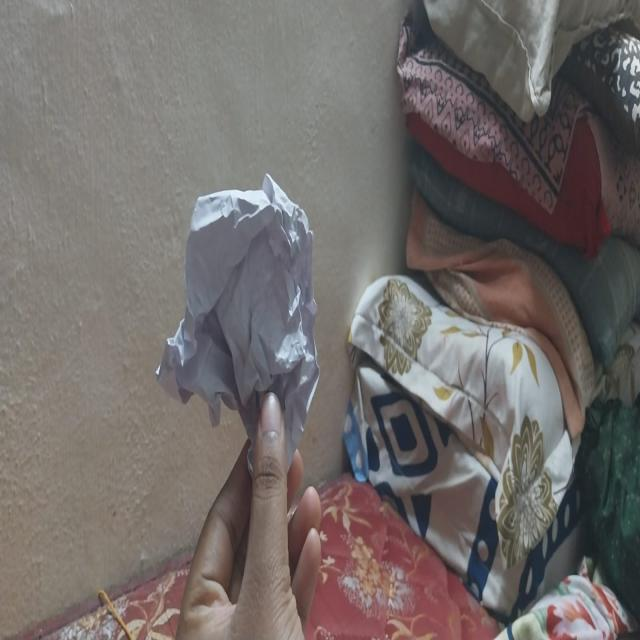Paper - Recyclable: (155, 170, 320, 483)
